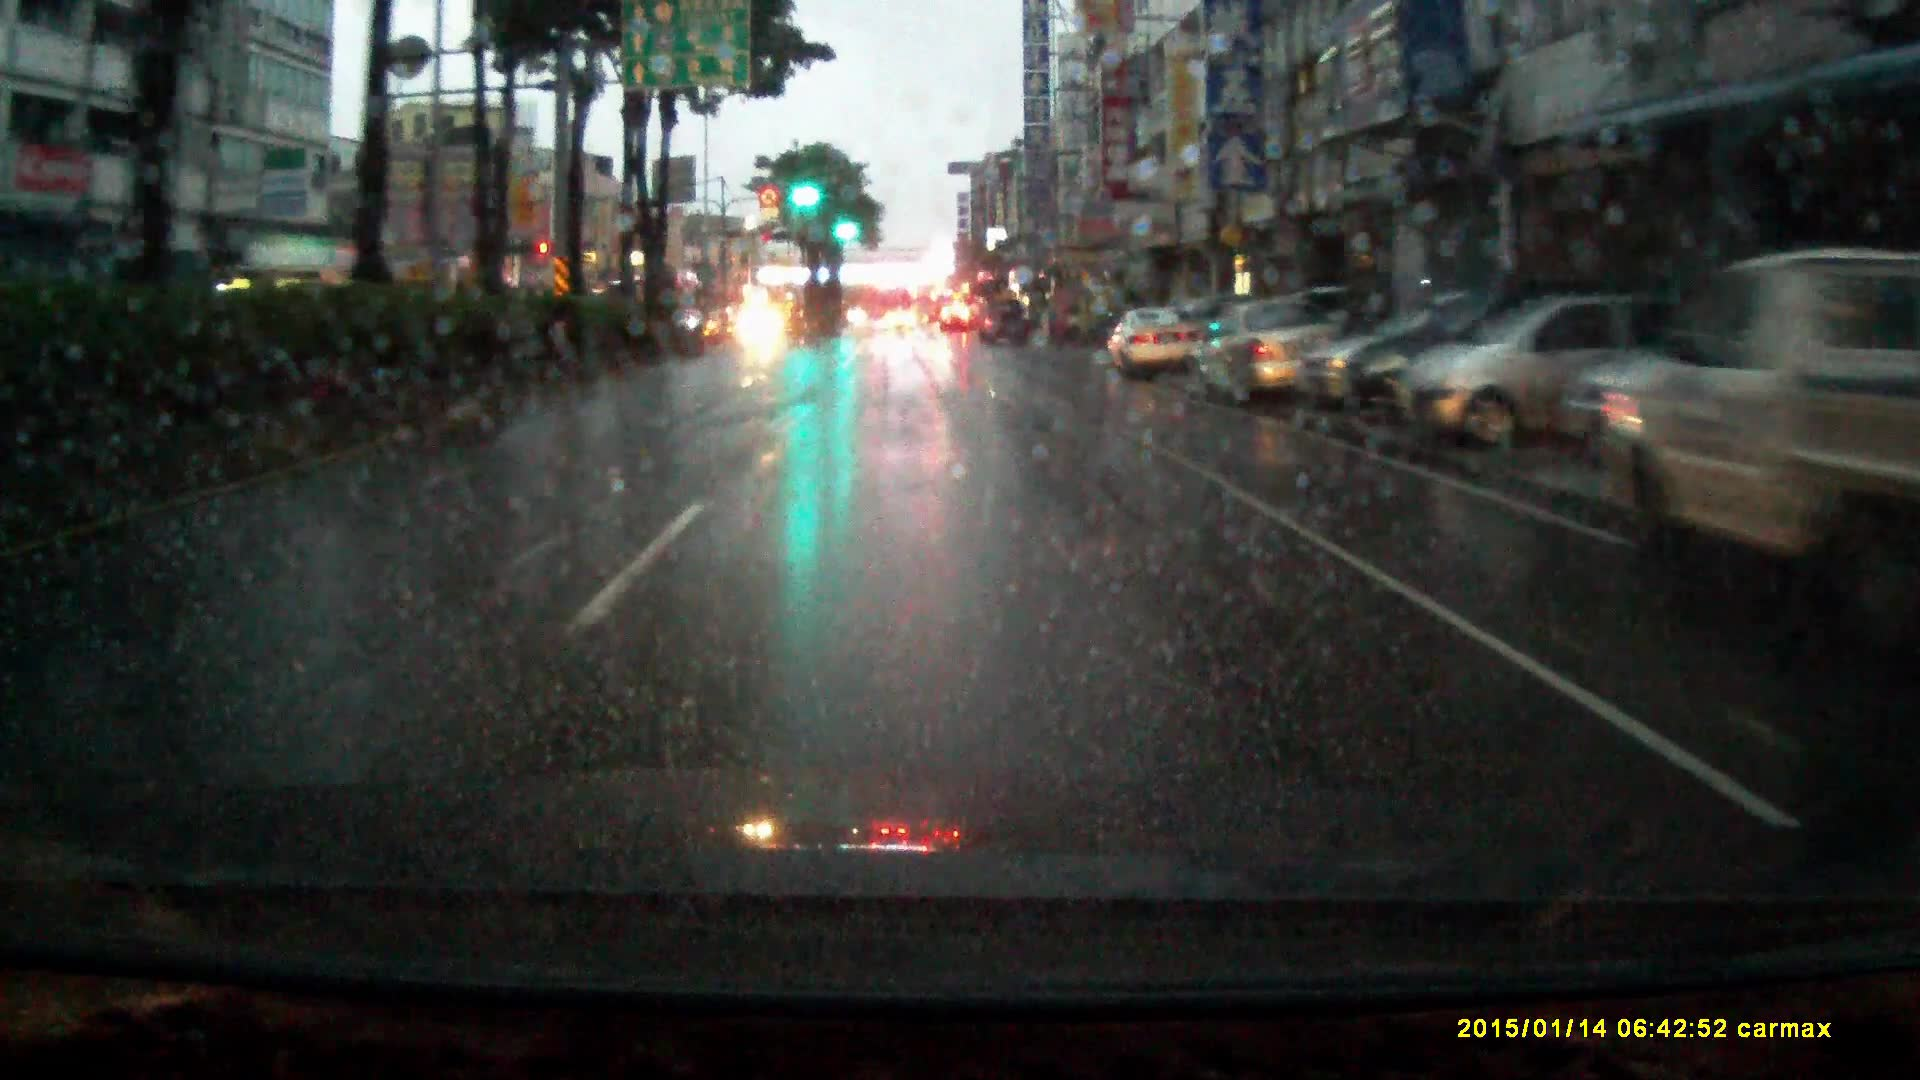vehicle: (1613, 247, 1920, 615), (1396, 287, 1708, 450), (1184, 294, 1360, 421), (1109, 305, 1192, 380), (976, 294, 1031, 342), (735, 301, 789, 347), (939, 301, 975, 331), (914, 282, 940, 319), (886, 305, 918, 324)
